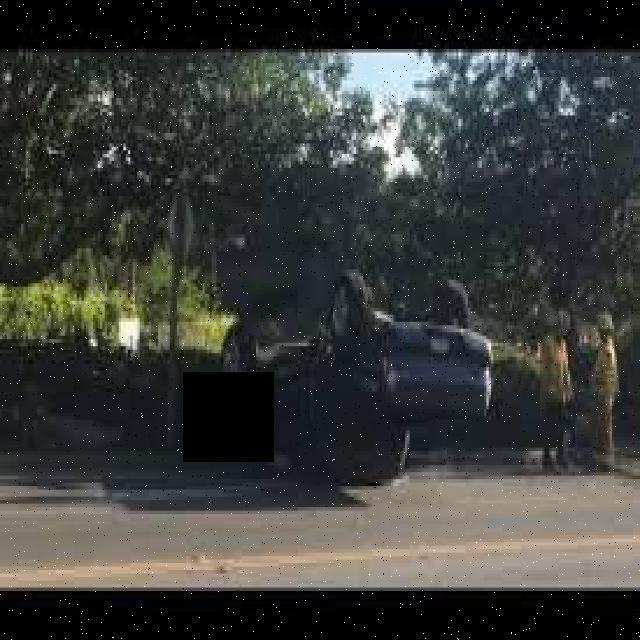severe: (217, 270, 497, 492)
